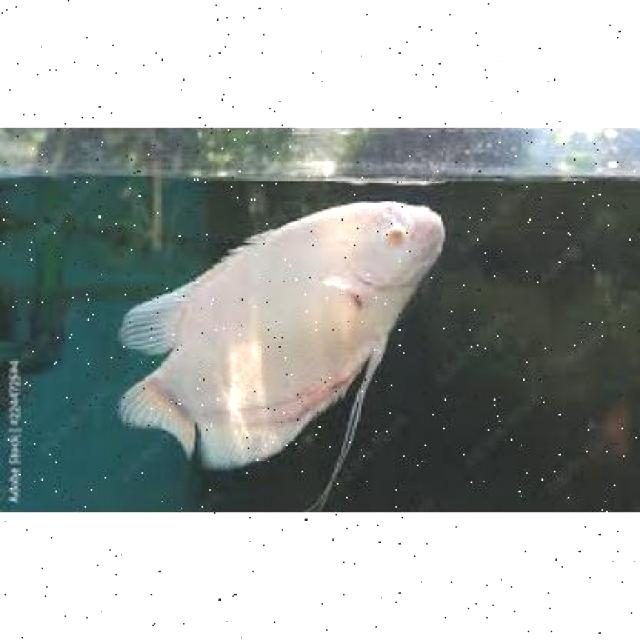gurame: (118, 202, 452, 460)
